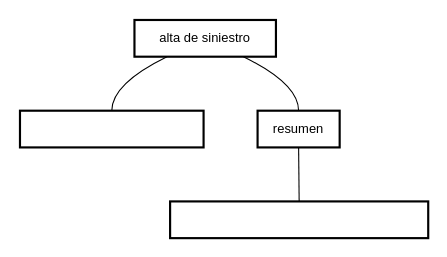
Some shapes in this 447 by 257 pixel diagram are drawn without their labels. Here are the shapes that lost their labels. From the top down, the box of each, then its label:
(18, 109, 204, 148): wc1: web component
(168, 200, 429, 239): wc2: front-recomendador-talle
